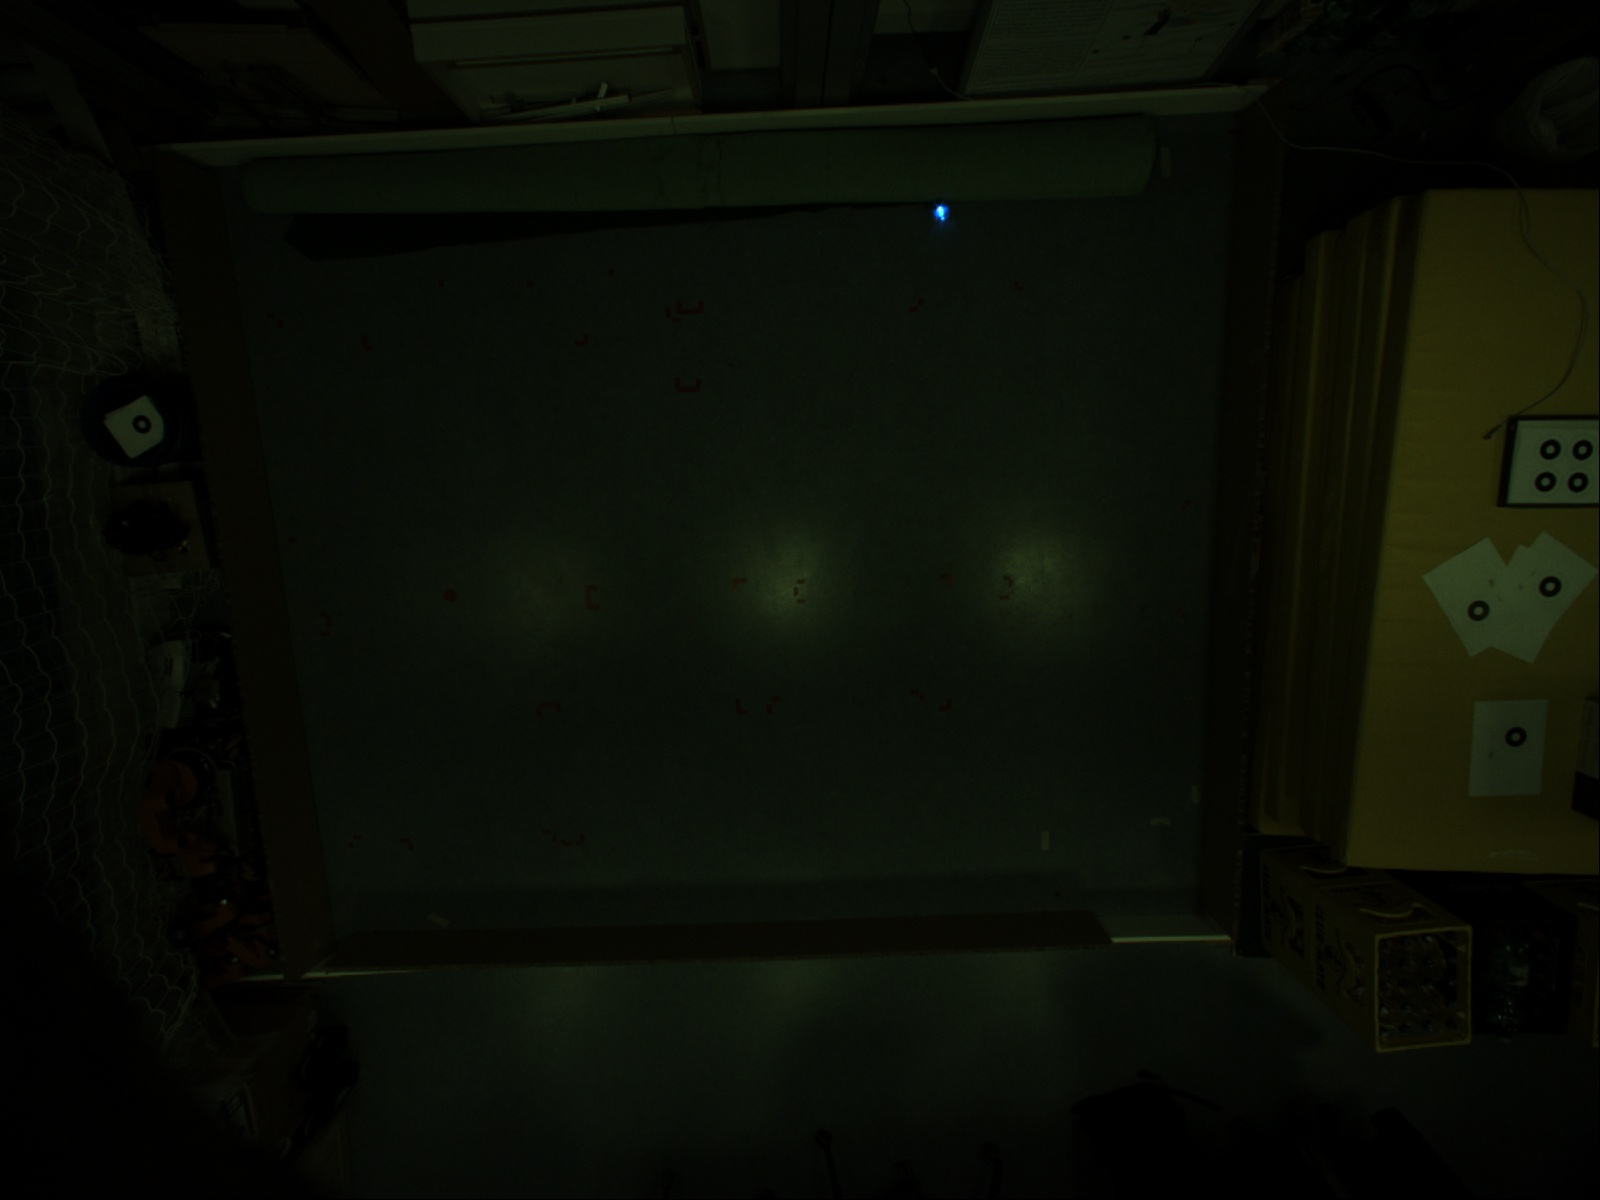sphero: (929, 200, 952, 226)
